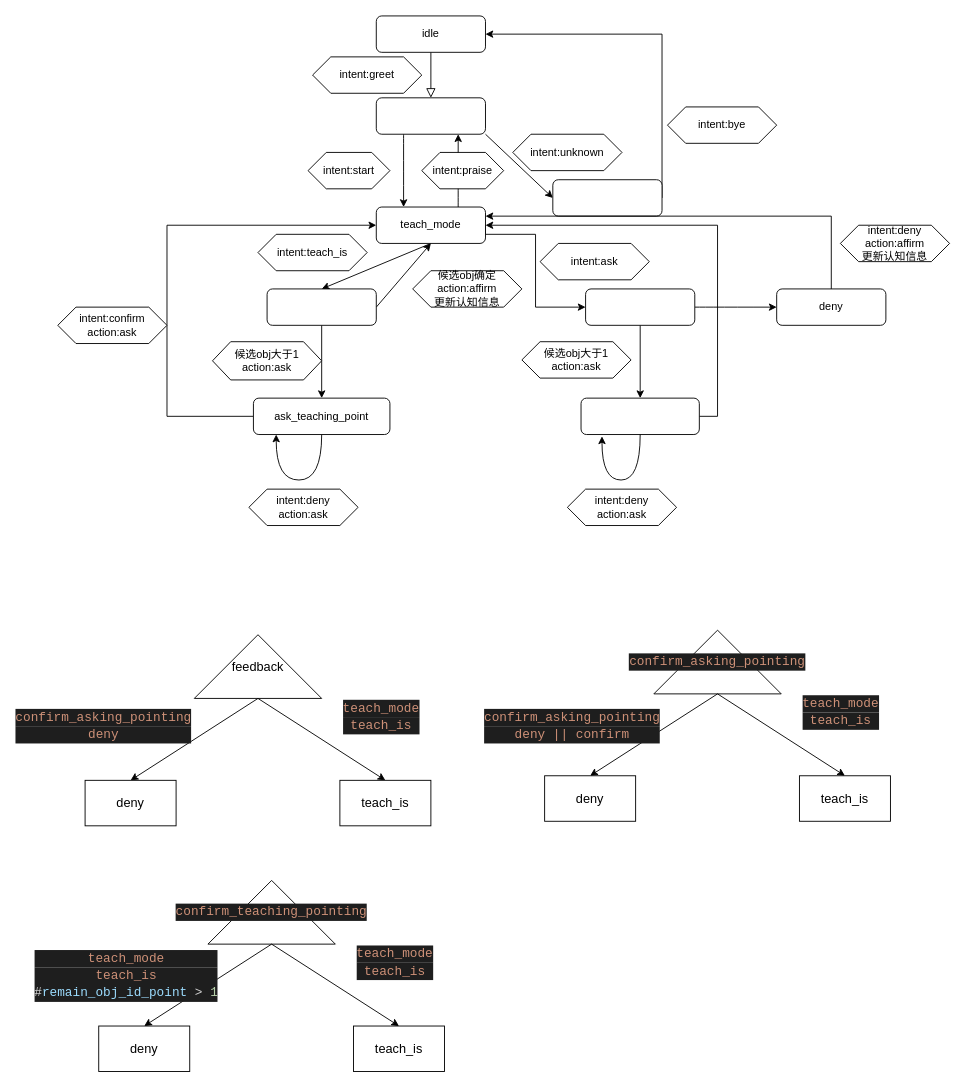
This 966x1087 diagram has some shape labels left out. Each missing label, with the centre of its shape:
"activate" belongs at (430,115).
"ask" belongs at (640,306).
"ask_asking_point" belongs at (639,416).
"chat" belongs at (607,197).
"teaching" belongs at (321,306).
